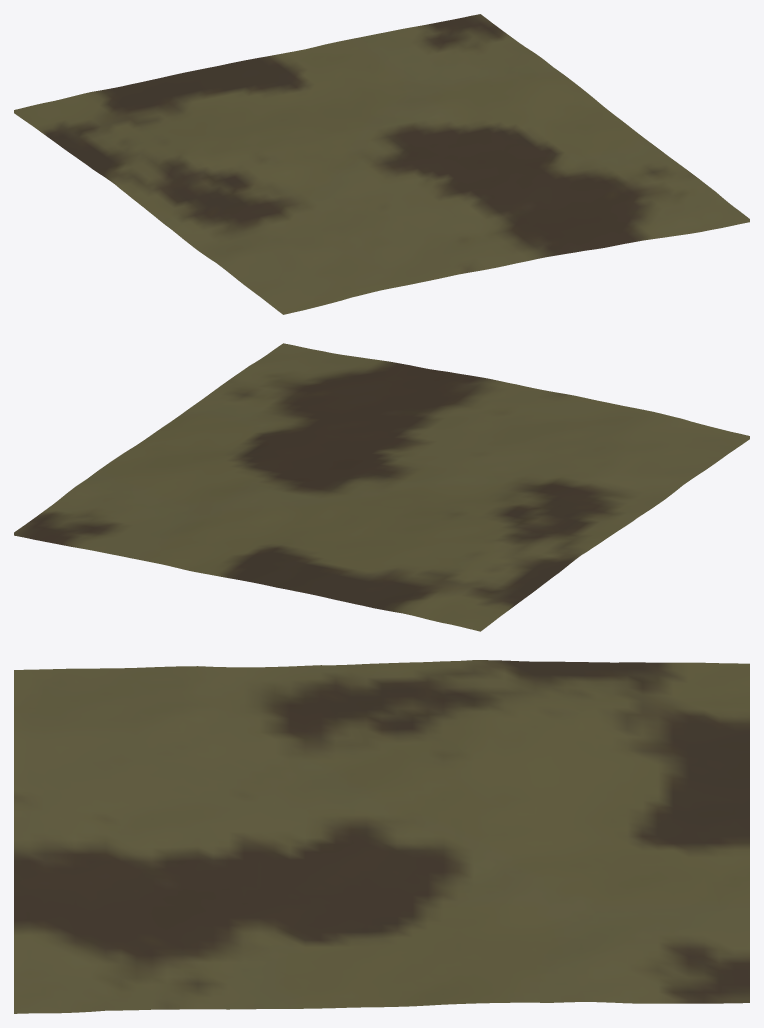
The model's file is land_m_00_04.glb.
3 renders of one model, top to bottom at view 1: azimuth 30°, elevation 25°; view 2: azimuth 150°, elevation 25°; view 3: azimuth 270°, elevation 25°, orthographic. The views are drawn at different scales.
Parts seen in each view (by area): view 1: land_m_00_04; view 2: land_m_00_04; view 3: land_m_00_04.
Part boxes in pixels (x1,y1,x2,y2): land_m_00_04: (14, 14, 749, 314); land_m_00_04: (14, 343, 749, 631); land_m_00_04: (14, 660, 749, 1013).
Bounding box in the file's own units: 960 × 62.4 × 960.
